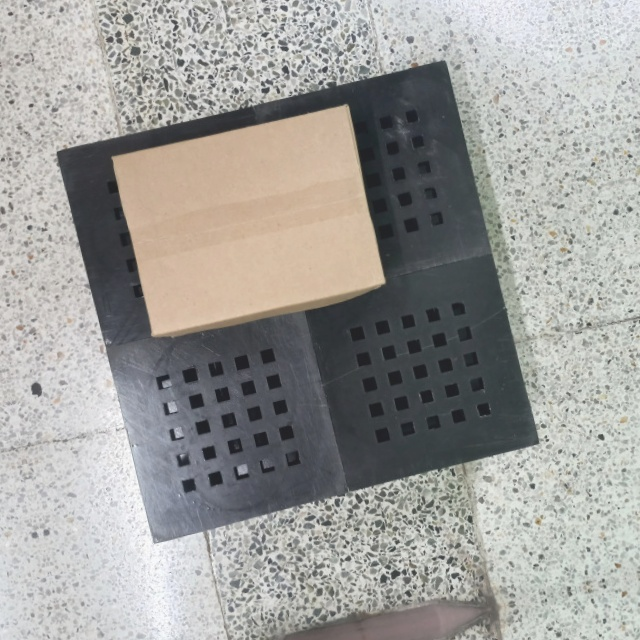box: (107, 97, 387, 344)
pallet: (51, 42, 551, 570)
